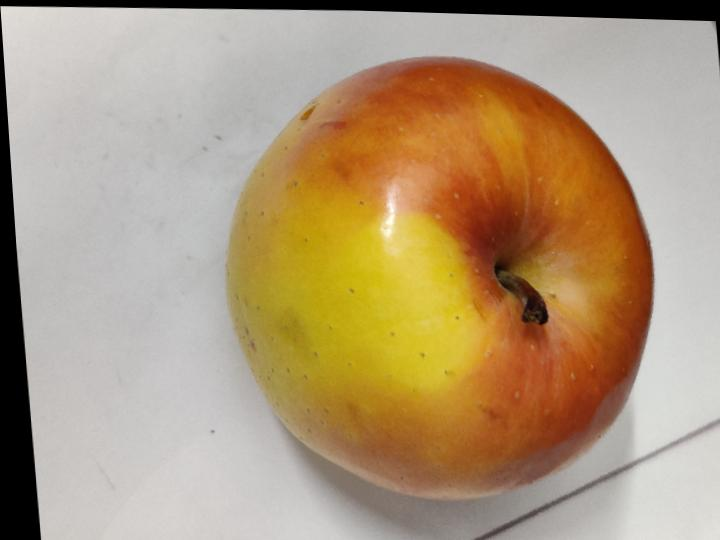apple: (226, 58, 653, 499)
